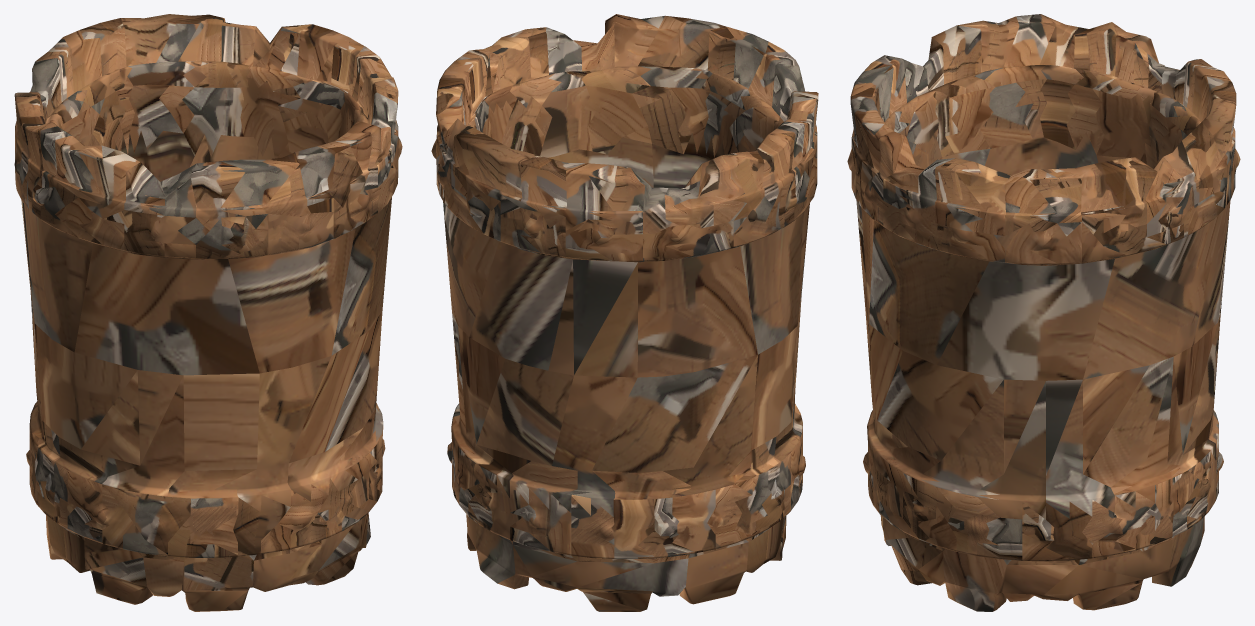
File: Trash.fbx
3 views of the same model, side by side, from view 1: azimuth 30°, elevation 25°; view 2: azimuth 150°, elevation 25°; view 3: azimuth 270°, elevation 25° (orthographic).
Visible parts, largest first — view 1: Mesh_0; view 2: Mesh_0; view 3: Mesh_0.
Part boxes in pixels (left/top/right/bottom): Mesh_0: left=14, top=14, right=402, bottom=611; Mesh_0: left=431, top=14, right=818, bottom=611; Mesh_0: left=847, top=14, right=1240, bottom=611.
Bounding box in the file's own units: 150 × 191 × 150.
